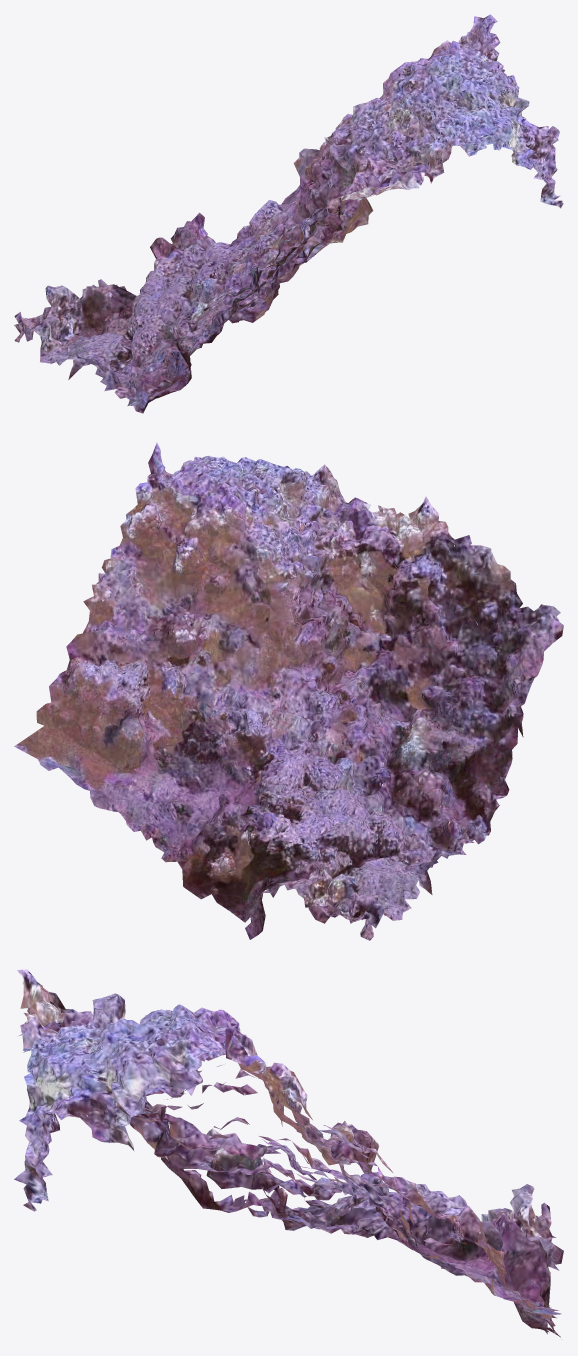
File: Tile_+012_+019_L19_000033.glb
The picture shows the model from 3 angles, top to bottom: view 1: azimuth 30°, elevation 25°; view 2: azimuth 150°, elevation 25°; view 3: azimuth 270°, elevation 25°; orthographic projection. The views are drawn at different scales.
Visible parts, largest first — view 1: rtc; view 2: rtc; view 3: rtc.
Boxes of the visible parts, x1,y1,x2,y2 form: rtc: [14, 14, 563, 413]; rtc: [14, 442, 563, 940]; rtc: [14, 969, 563, 1337].
Bounding box in the file's own units: 54.32 × 50.23 × 53.41.
Materials: 1 (1 with a texture image).
